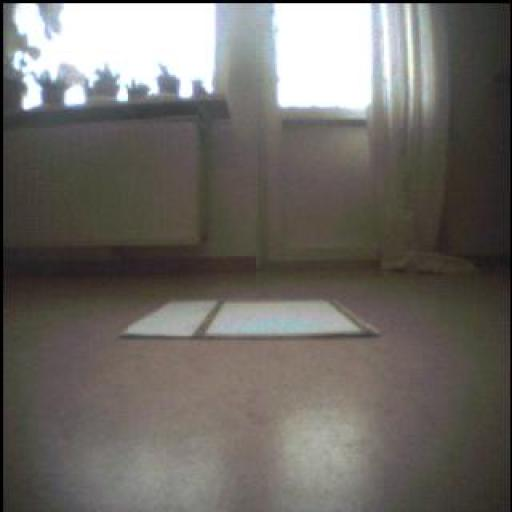Pad: (124, 294, 382, 339)
